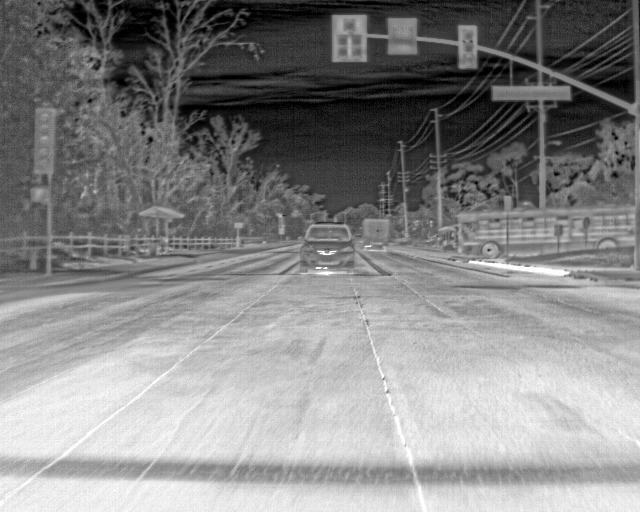car: (455, 204, 635, 259), (298, 221, 357, 273), (362, 218, 389, 251)
light: (37, 111, 50, 169), (463, 29, 474, 64), (337, 34, 347, 56), (31, 187, 45, 202), (352, 34, 361, 57), (343, 19, 354, 31)
sign: (492, 86, 571, 100), (388, 18, 416, 54), (504, 196, 511, 211), (554, 225, 562, 235), (583, 218, 589, 229), (278, 216, 284, 227), (234, 223, 243, 228), (278, 227, 284, 234)
